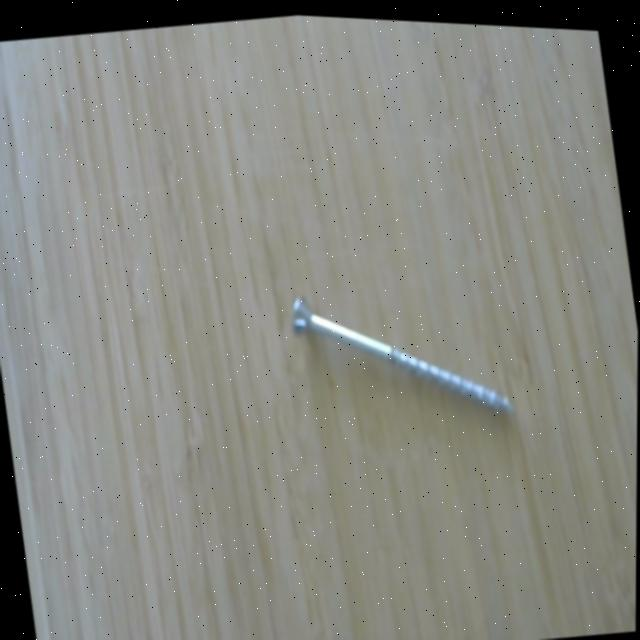Long screw: (284, 284, 522, 416)
